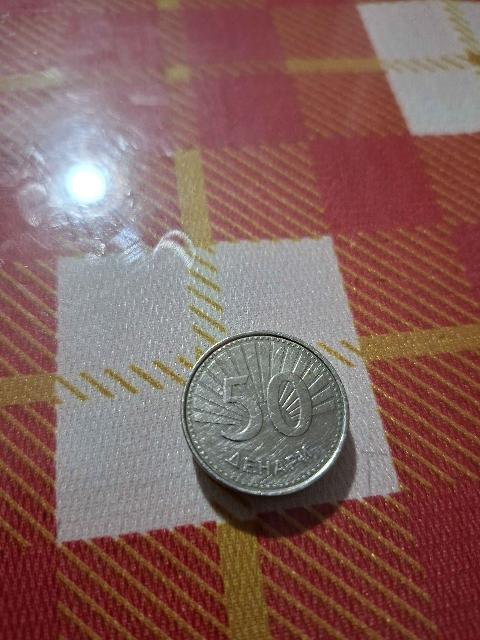50_coin: (182, 332, 348, 495)
